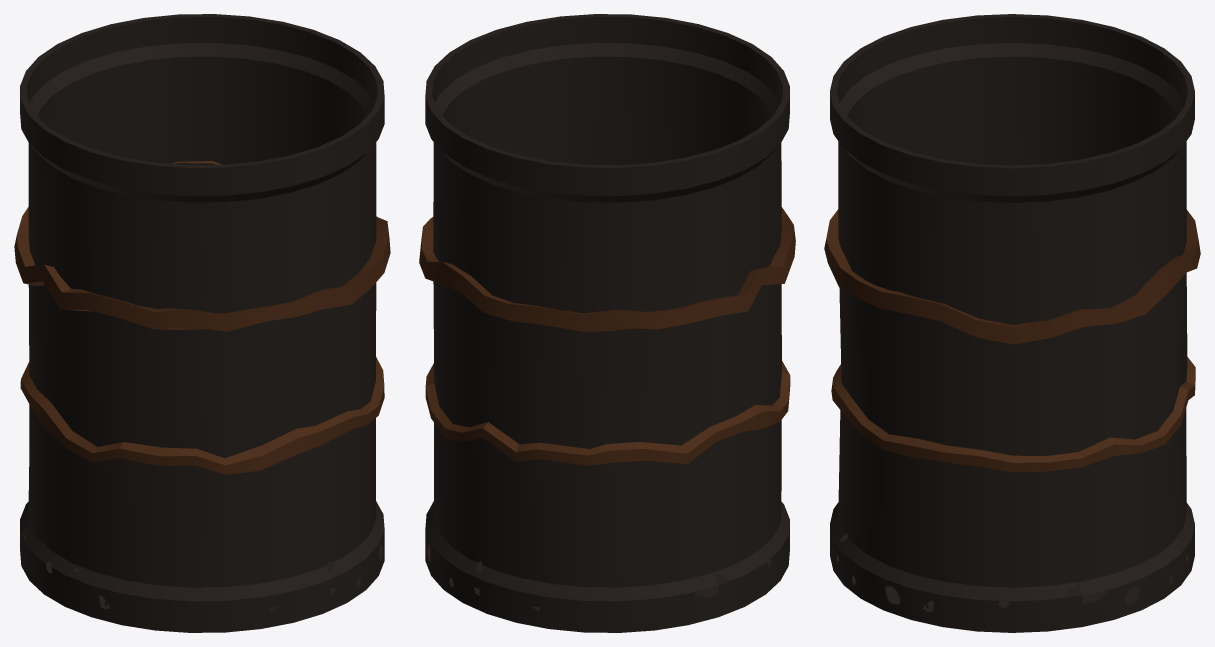
Rendered from firepit.fbx.
3 renders of one model, left to right at view 1: azimuth 30°, elevation 25°; view 2: azimuth 150°, elevation 25°; view 3: azimuth 270°, elevation 25°, orthographic.
Parts seen in each view (by area): view 1: Cylinder, Cylinder.002, Cylinder.001; view 2: Cylinder, Cylinder.002, Cylinder.001; view 3: Cylinder, Cylinder.002, Cylinder.001.
Boxes of the visible parts, left/top/right/bottom form: Cylinder: left=20, top=14, right=384, bottom=632; Cylinder.002: left=14, top=161, right=390, bottom=331; Cylinder.001: left=20, top=357, right=384, bottom=474; Cylinder: left=425, top=14, right=789, bottom=632; Cylinder.002: left=419, top=207, right=795, bottom=331; Cylinder.001: left=425, top=361, right=790, bottom=465; Cylinder: left=830, top=14, right=1194, bottom=632; Cylinder.002: left=824, top=209, right=1200, bottom=344; Cylinder.001: left=831, top=357, right=1195, bottom=472.
Size of the model in its own units: 387 by 530 by 389.
